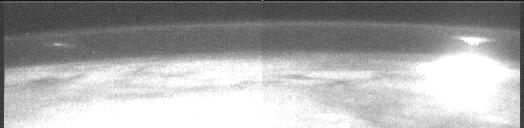negative: (455, 36, 492, 49)
